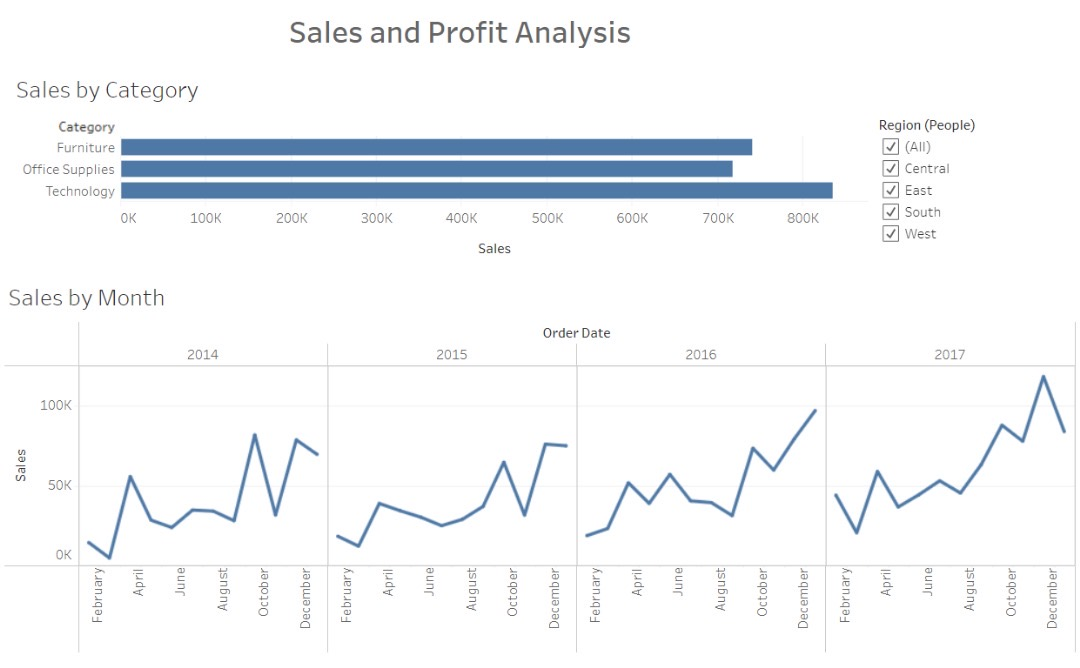

The page's visual inventory and layout, read from the dashboard file:
{"tool":"tableau","page":{"name":"Dashboard 1","canvas":[1000,800],"ordinal":0},"visuals":[{"type":"text","box":[266,25,320,30]},{"type":"worksheet","title":"Sheet 1","mark":"Automatic","rows":["Category"],"cols":["Sales"],"box":[11,73,788,188]},{"type":"filter","title":"Sheet 1","param":"[federated.0a7g92y1yj69k3165zqoi0tzv4lw].[none:Region (People):nk]","box":[808,117,160,125]},{"type":"worksheet","title":"Sheet 2","mark":"Automatic","rows":["Sales"],"cols":["Order Date","Order Date"],"box":[4,264,985,348]}]}

Visuals, with their boxes on the page's 1000x800 design canvas (x1, y1, x2, y2). These are canvas units, not pixel positions in the 1080x668 screenshot, which may show the page scaled, cropped or inside an application window:
text: box(266, 25, 586, 55)
"Sheet 1" worksheet: box(11, 73, 799, 261)
"Sheet 1" filter: box(808, 117, 968, 242)
"Sheet 2" worksheet: box(4, 264, 989, 612)
